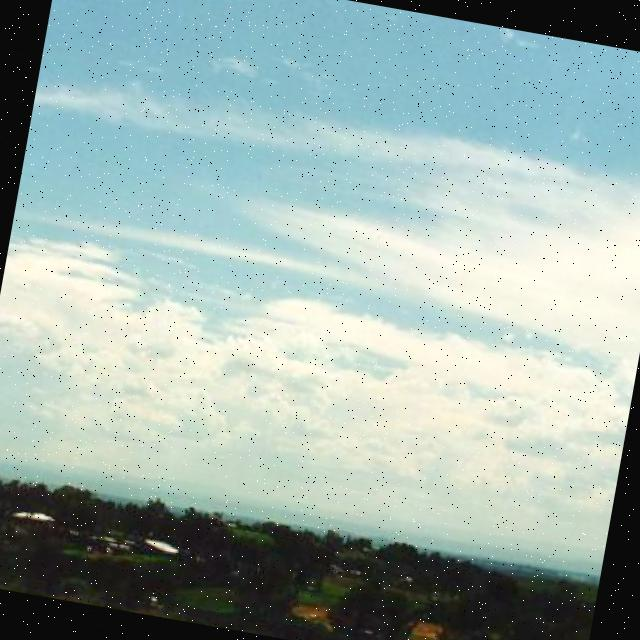Cs: (1, 46, 640, 555)
